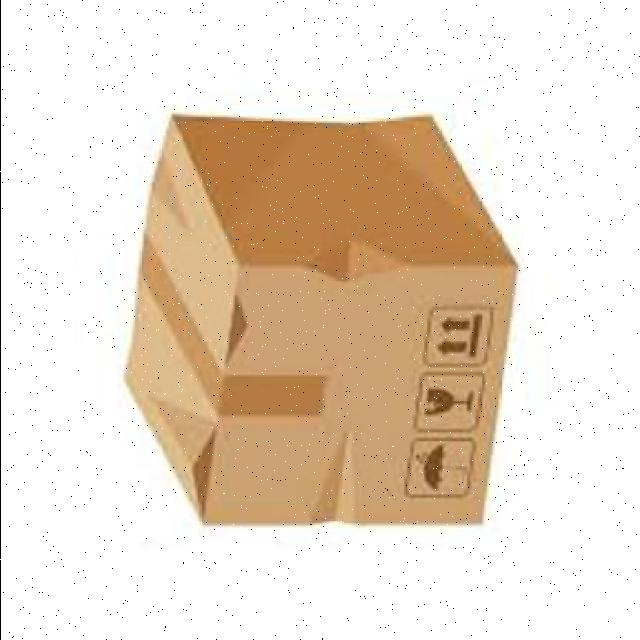defect: (116, 106, 524, 536)
